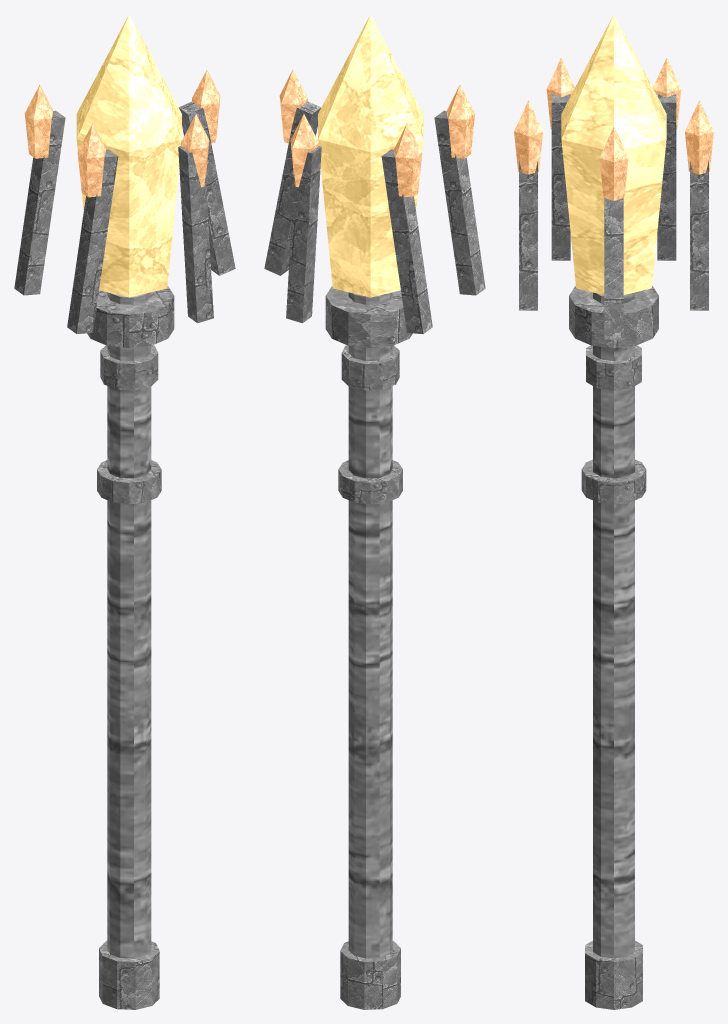
File: Magenheim_Staff_Fire_Advanced.glb
3 views of the same model, side by side, from view 1: azimuth 30°, elevation 25°; view 2: azimuth 150°, elevation 25°; view 3: azimuth 270°, elevation 25° (orthographic).
Visible parts, largest first — view 1: shaft, advanced-core, flame-rib-3, flame-rib-2, flame-rib-1, crown-band, pommel, flame-rib-0, lower-band, neck-band, flame-tip-2, flame-tip-3 (+2 smaller); view 2: shaft, advanced-core, flame-rib-2, flame-rib-3, flame-rib-4, crown-band, pommel, flame-rib-0, lower-band, neck-band, flame-tip-3, flame-tip-2 (+2 smaller); view 3: shaft, advanced-core, crown-band, pommel, flame-rib-0, flame-rib-1, flame-rib-4, flame-rib-2, flame-rib-3, lower-band, neck-band, flame-tip-0 (+4 smaller).
Part boxes in pixels (x1,y1,x2,y2): shaft: [107, 292, 151, 958]; advanced-core: [76, 14, 181, 297]; flame-rib-3: [14, 110, 65, 295]; flame-rib-2: [67, 149, 118, 333]; flame-rib-1: [178, 146, 213, 323]; crown-band: [87, 286, 174, 348]; pommel: [99, 940, 159, 1009]; flame-rib-0: [178, 101, 235, 275]; lower-band: [97, 460, 161, 504]; neck-band: [100, 345, 158, 390]; flame-tip-2: [77, 123, 105, 197]; flame-tip-3: [24, 84, 53, 158]; shaft: [348, 292, 392, 958]; advanced-core: [318, 14, 423, 297]; flame-rib-2: [434, 110, 485, 295]; flame-rib-3: [381, 149, 432, 333]; flame-rib-4: [286, 146, 321, 323]; crown-band: [325, 286, 412, 348]; pommel: [340, 940, 400, 1009]; flame-rib-0: [264, 101, 321, 275]; lower-band: [338, 460, 402, 504]; neck-band: [341, 345, 399, 390]; flame-tip-3: [394, 123, 422, 197]; flame-tip-2: [446, 84, 475, 158]; shaft: [593, 292, 634, 958]; advanced-core: [561, 14, 666, 294]; crown-band: [569, 286, 658, 347]; pommel: [585, 940, 642, 1009]; flame-rib-0: [604, 198, 623, 339]; flame-rib-1: [519, 160, 537, 310]; flame-rib-4: [690, 160, 708, 310]; flame-rib-2: [551, 94, 570, 260]; flame-rib-3: [657, 94, 676, 260]; lower-band: [581, 459, 646, 504]; neck-band: [586, 345, 641, 390]; flame-tip-0: [599, 126, 628, 200].
Size of the model in its own units: 0.4052 by 2.05 by 0.3785.
Materials: 5 (5 with a texture image).
